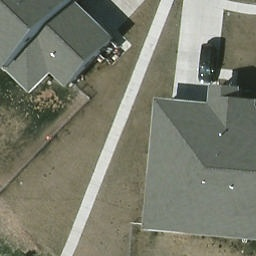car: (199, 45, 217, 82)
